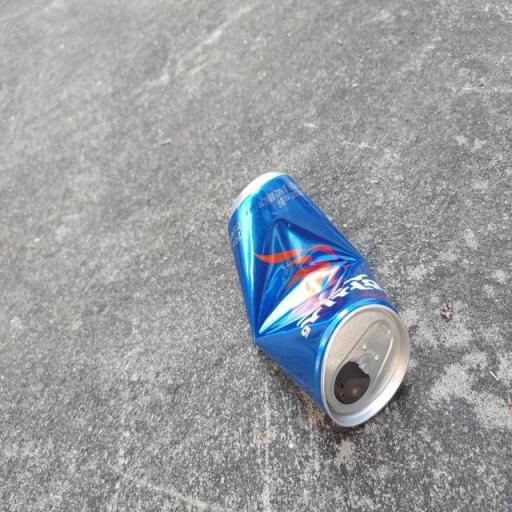metal: (186, 123, 444, 461)
